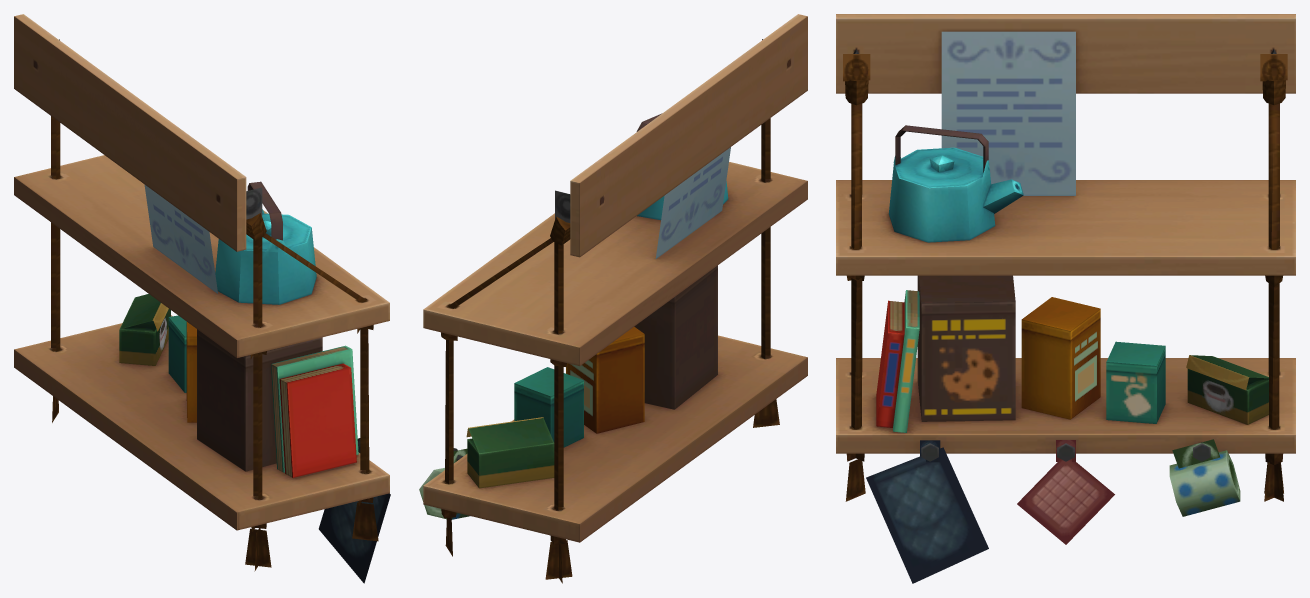
File: 开放置物架.glb
3 views of the same model, side by side, from view 1: azimuth 30°, elevation 25°; view 2: azimuth 150°, elevation 25°; view 3: azimuth 270°, elevation 25° (orthographic). The views are drawn at different scales.
Visible parts, largest first — view 1: TinyLiving_OpenShelf_31, s4studio_mesh_2.004_30; view 2: TinyLiving_OpenShelf_31, s4studio_mesh_2.004_30; view 3: TinyLiving_OpenShelf_31, s4studio_mesh_2.004_30.
Part boxes in pixels (x1=…): TinyLiving_OpenShelf_31: x1=14, y1=14, x2=390, y2=583; s4studio_mesh_2.004_30: x1=51, y1=116, x2=378, y2=571; TinyLiving_OpenShelf_31: x1=419, y1=14, x2=807, y2=542; s4studio_mesh_2.004_30: x1=441, y1=118, x2=779, y2=583; TinyLiving_OpenShelf_31: x1=836, y1=14, x2=1295, y2=583; s4studio_mesh_2.004_30: x1=845, y1=103, x2=1283, y2=501.
Bounding box in the file's own units: 0.4134 × 0.995 × 0.8512.
Materials: 1 (1 with a texture image).
